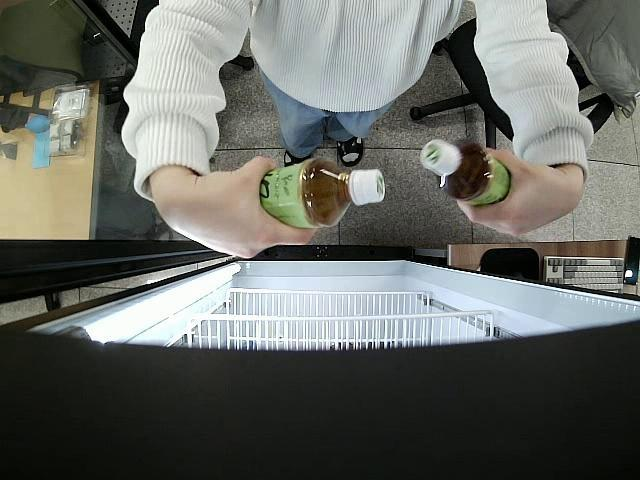19_17cha: (262, 154, 388, 228), (420, 138, 510, 207)
